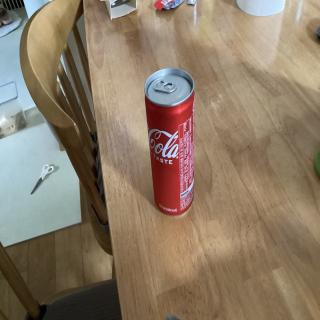cocacola: (144, 63, 198, 217)
